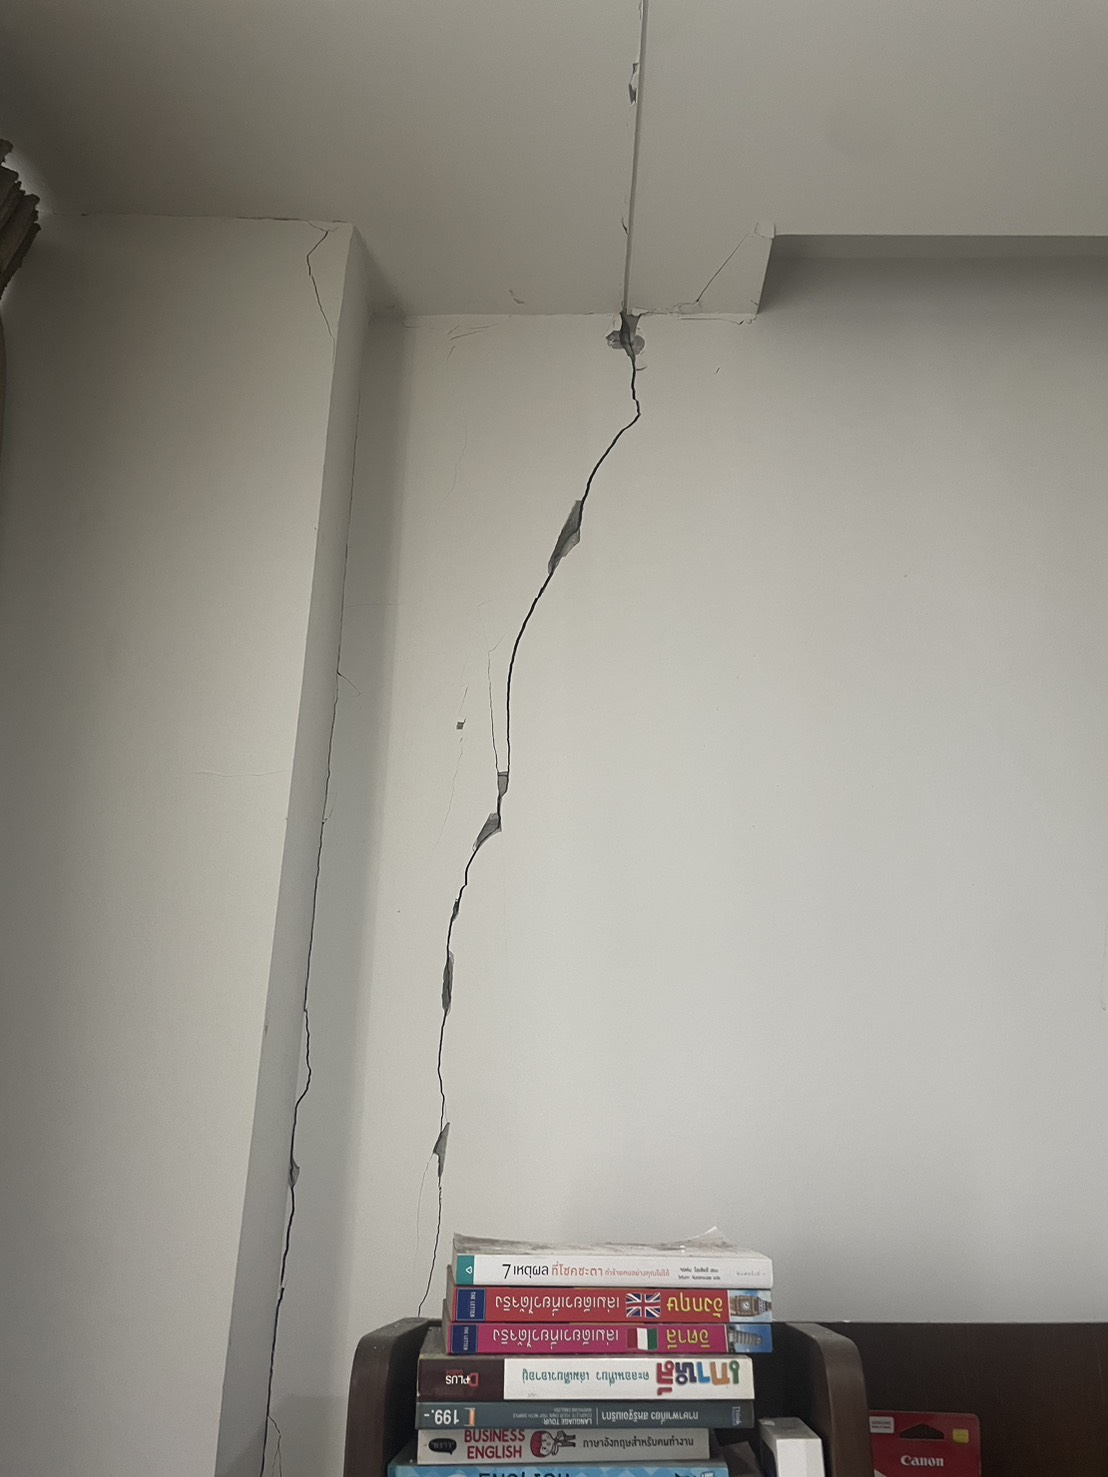Medium: (391, 346, 656, 1176)
